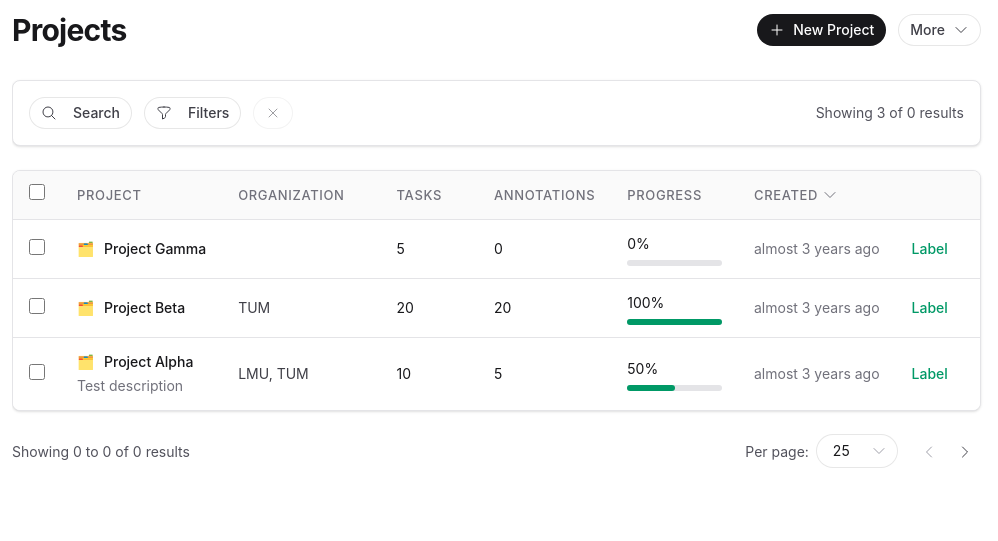
Test: ProjectListTable › Row Selection › should deselect individual project
The image size is (998, 541).
Click the checkbox with test id "projects-table-checkbox-1" at (37, 372), box [29,364,45,380]
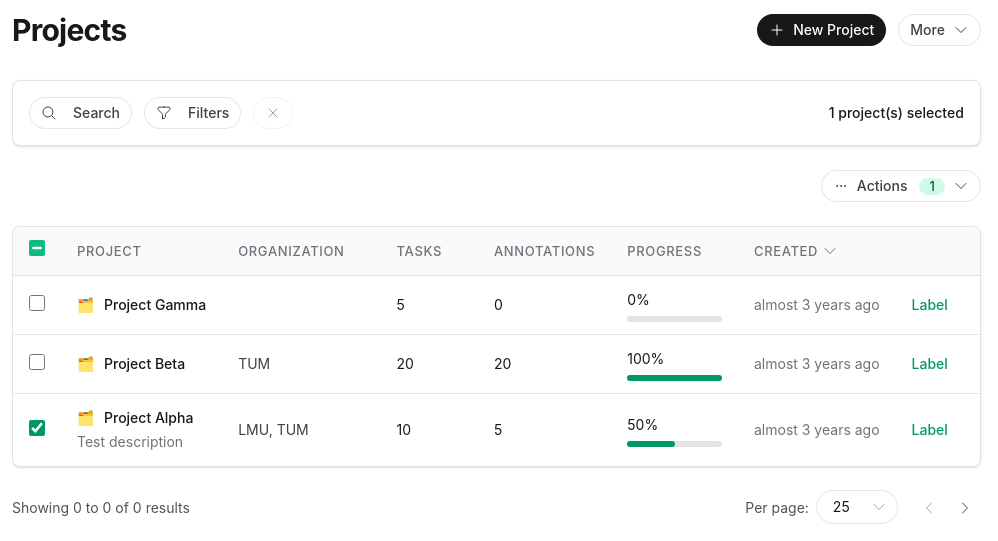
Click the checkbox with test id "projects-table-checkbox-1" at (37, 428), box [29,420,45,436]
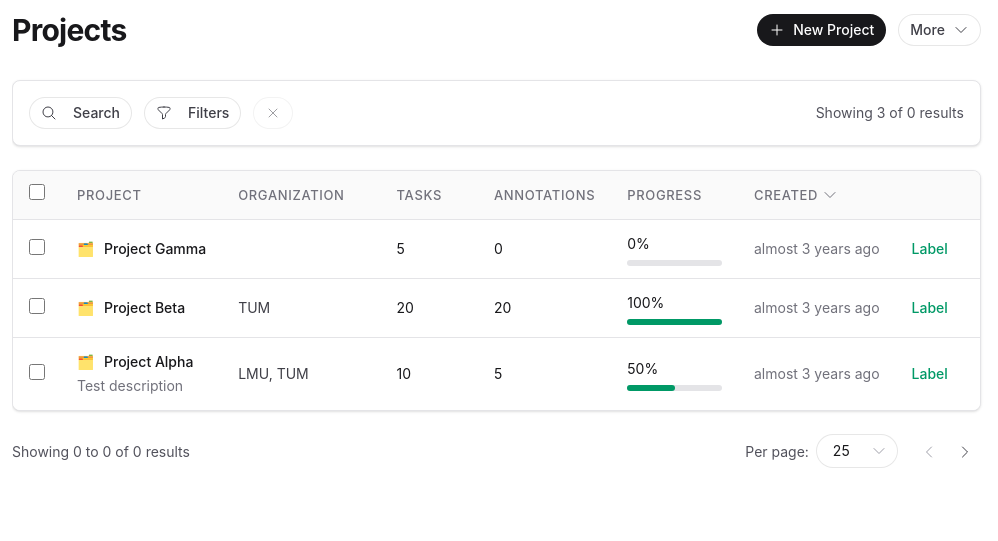
Expected: the text with test id "projects-selection-count" is gone
